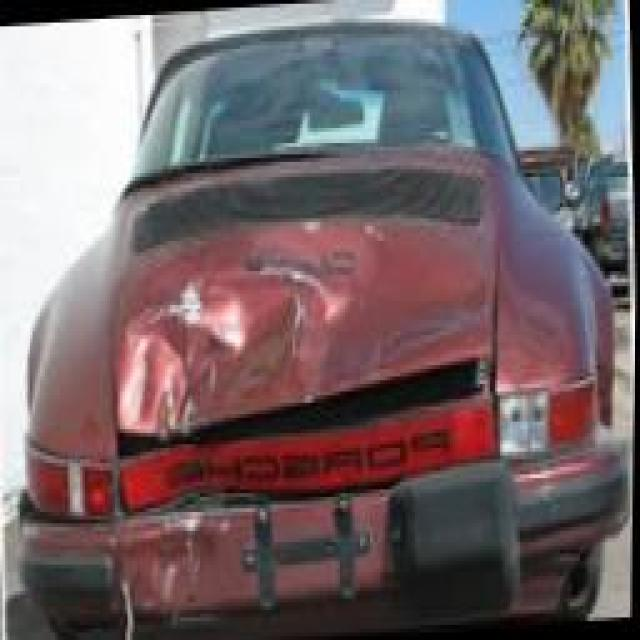Bumper: (82, 394, 497, 640), (14, 483, 130, 640)
Dickey: (112, 156, 497, 453)
